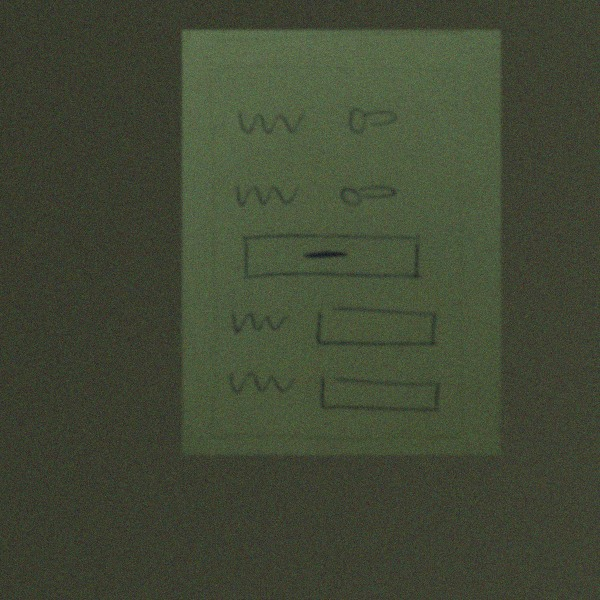button: (237, 229, 425, 285)
switch: (332, 175, 402, 209), (339, 102, 403, 138)
text: (229, 102, 315, 142), (227, 176, 303, 214), (223, 362, 298, 399), (225, 303, 293, 334)
text_input: (313, 300, 445, 357), (315, 370, 449, 421)
